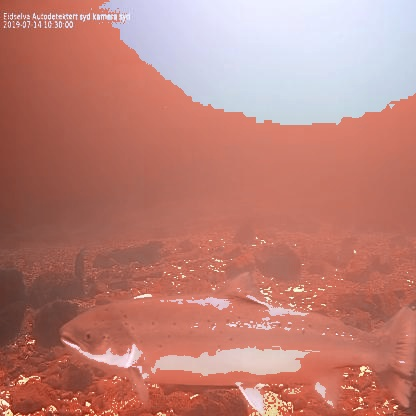salmon: (57, 270, 416, 416)
